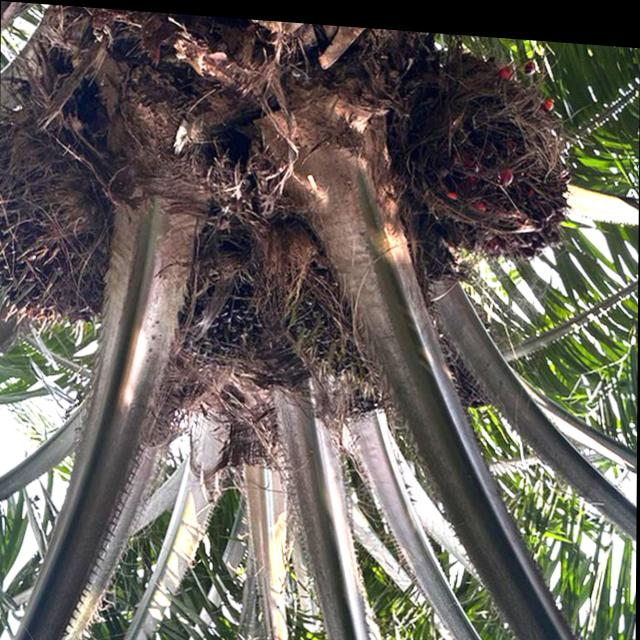unripe: (376, 29, 583, 274), (0, 98, 117, 341), (228, 195, 382, 365), (147, 195, 289, 369)
